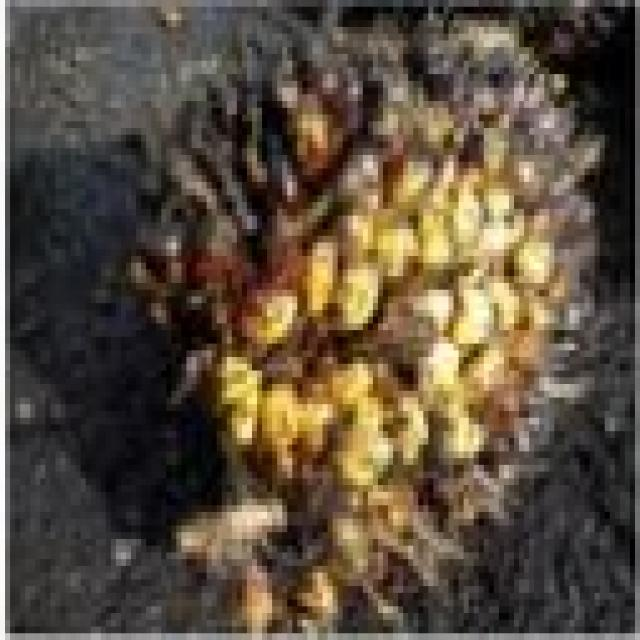FFB: (136, 27, 588, 573)
